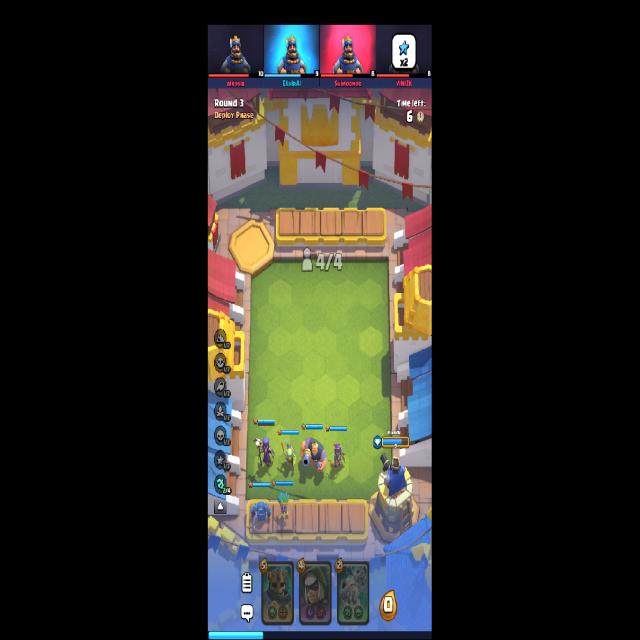archer_queen: (328, 443, 346, 470)
card_bandit: (299, 561, 331, 625)
card_skeleton_dragon: (337, 561, 369, 624)
card_skeleton_king: (262, 562, 294, 624)
dart_goblin: (276, 491, 290, 521)
mini_pekka: (251, 500, 272, 531)
royal_giant: (300, 437, 326, 472)
spear_goblin: (281, 441, 295, 467)
witch: (254, 434, 274, 468)
